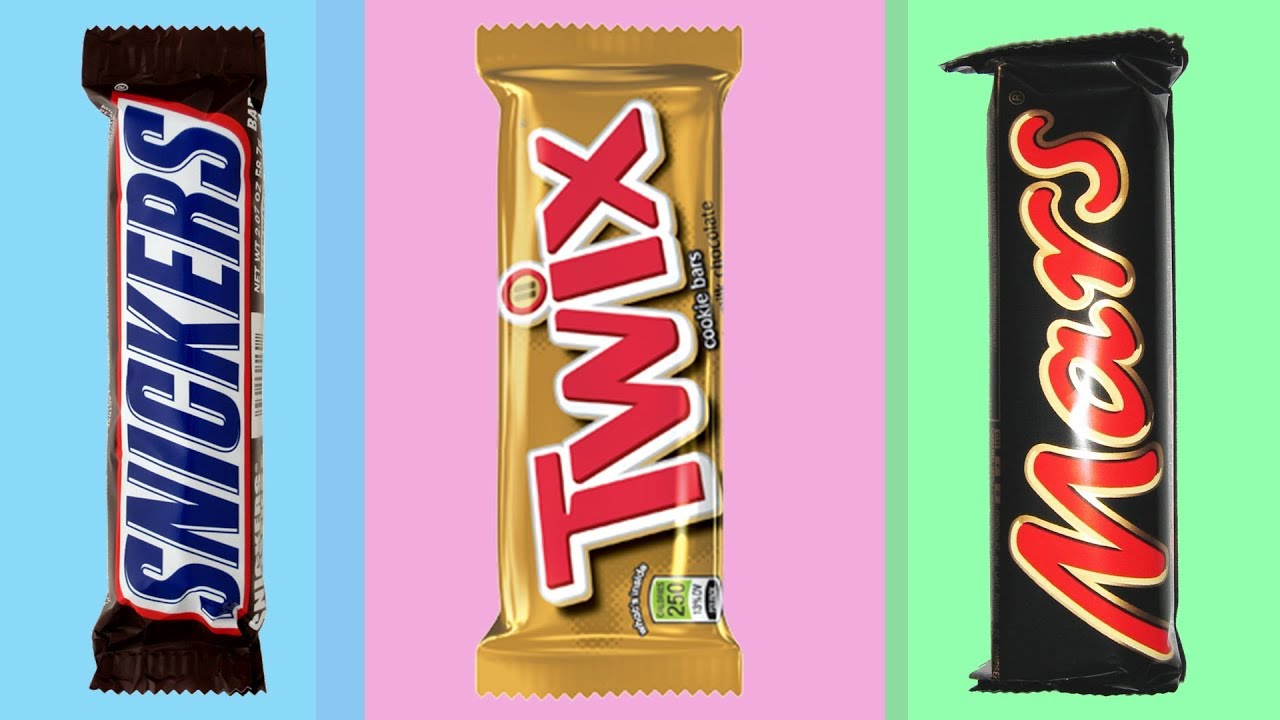snickers: (120, 102, 245, 626)
